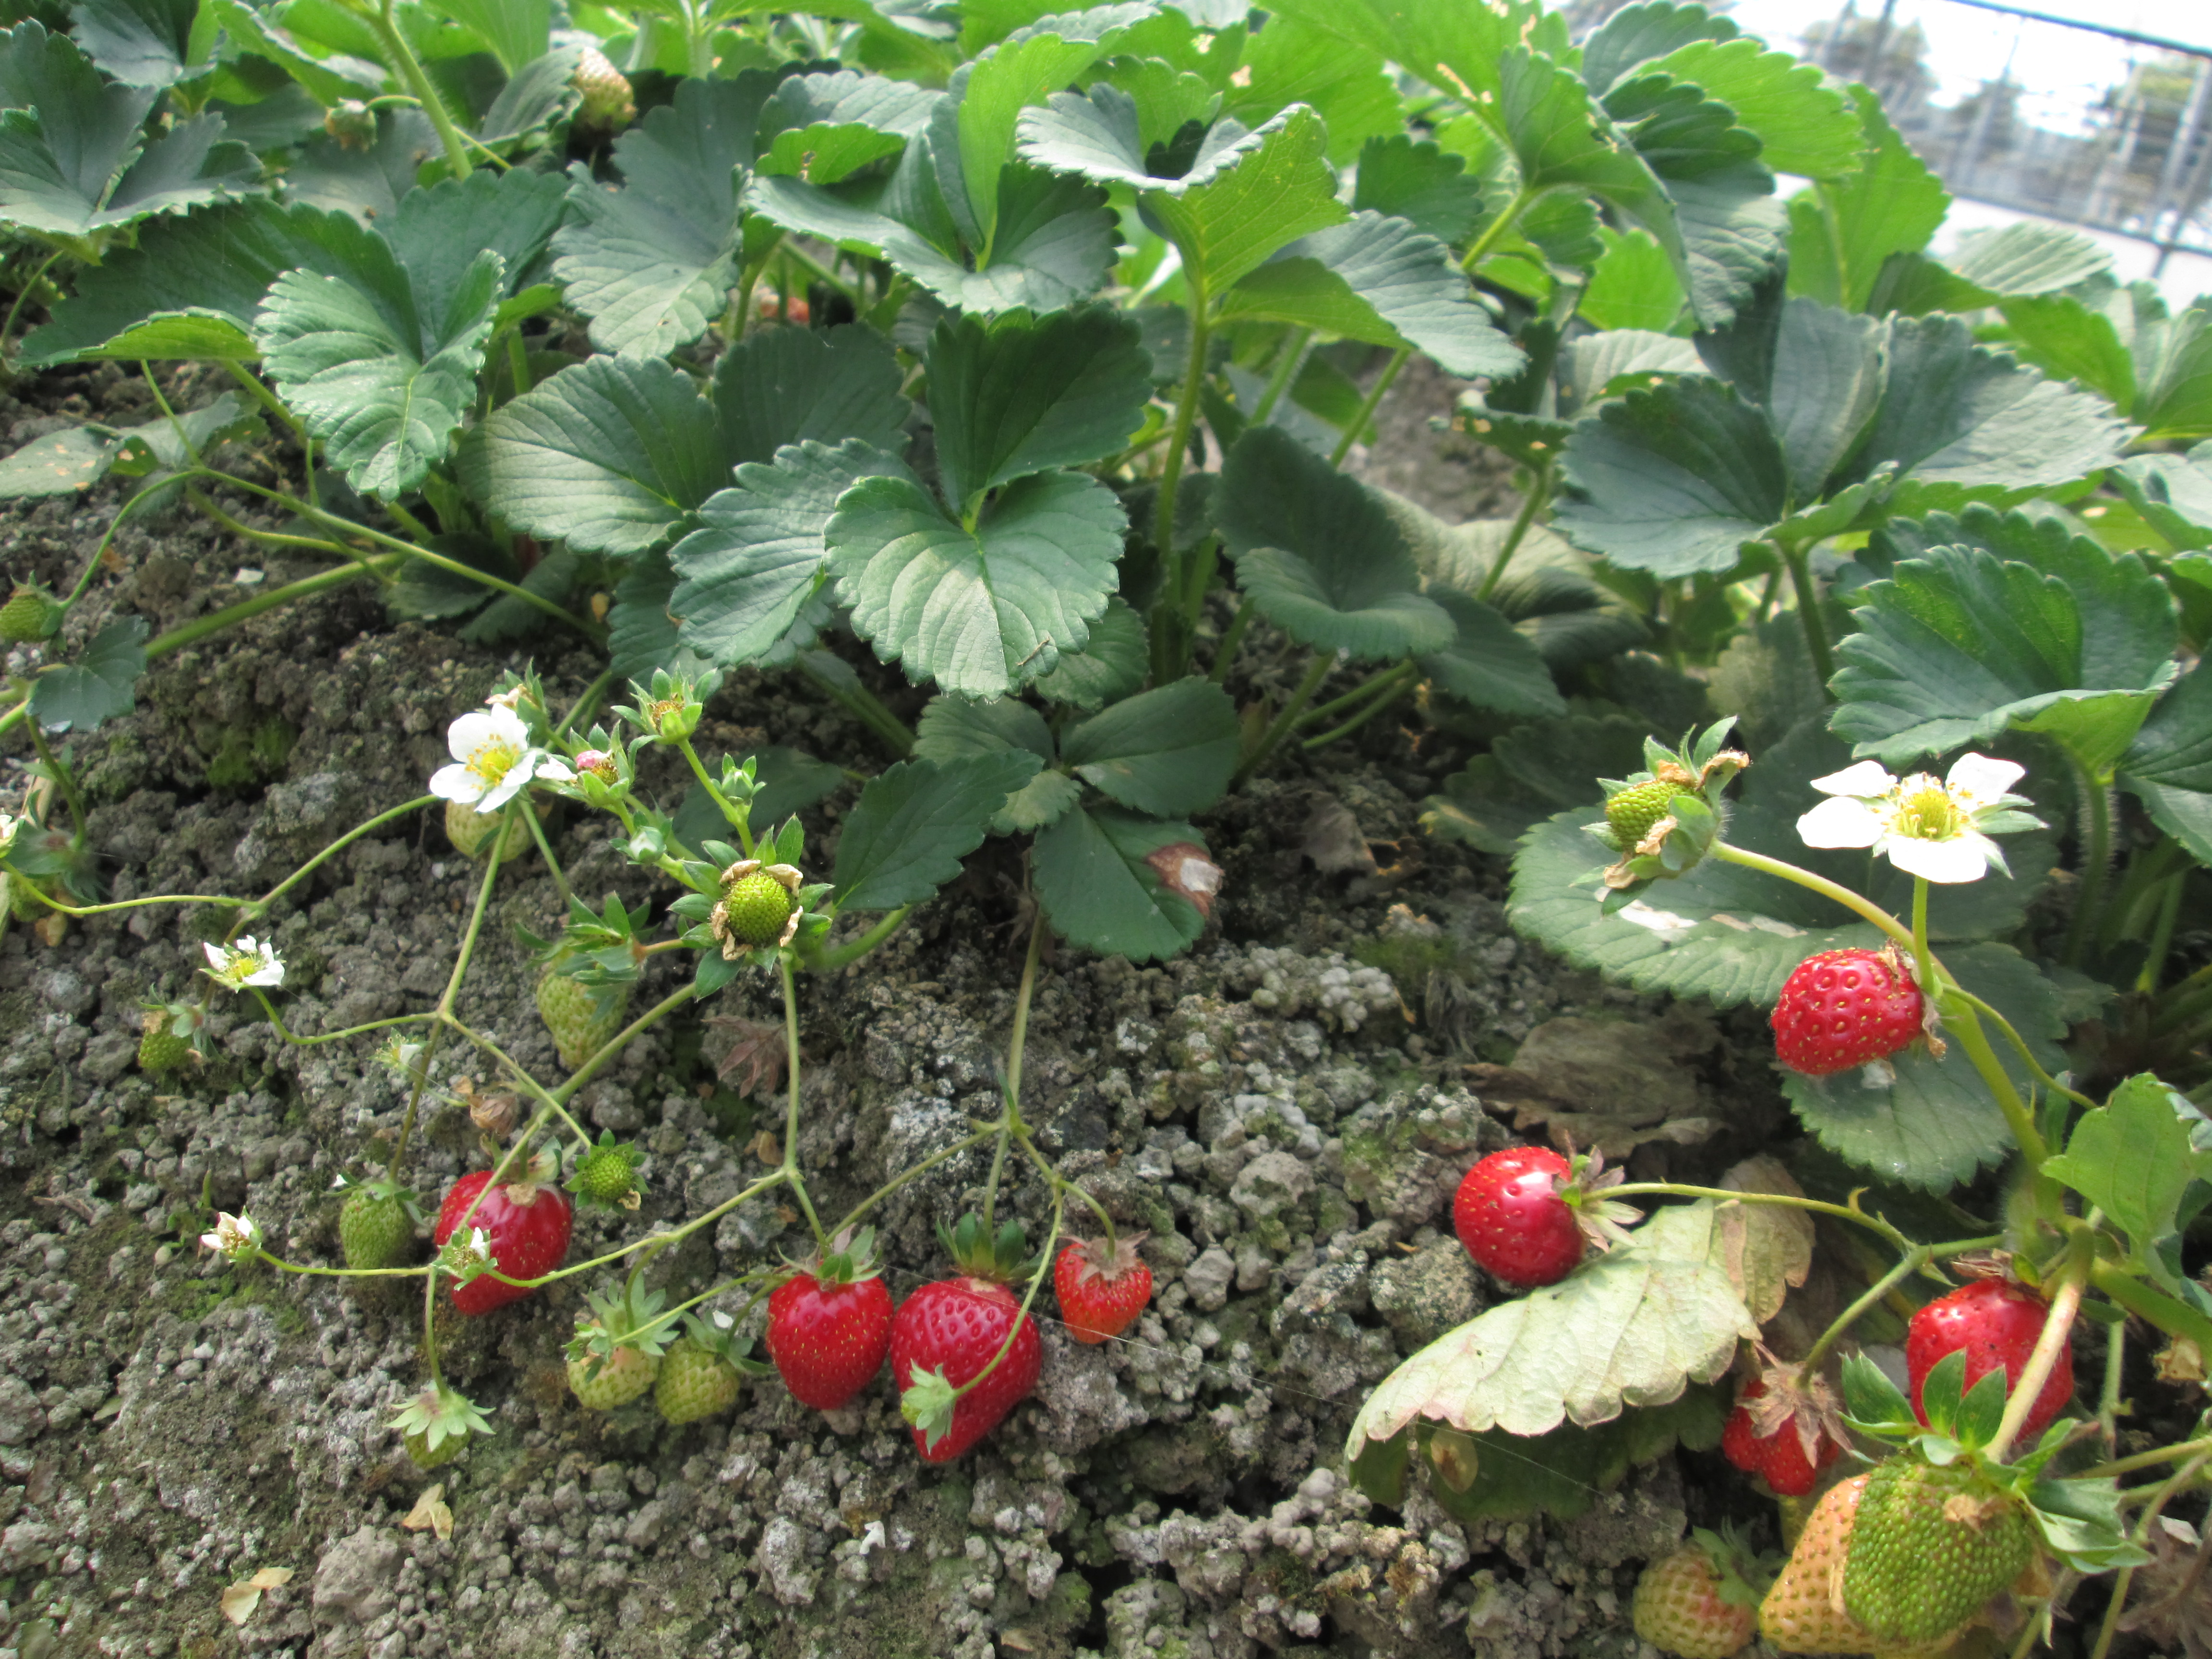StrawberryCircular: (751, 1260, 900, 1425), (1449, 1138, 1599, 1291), (425, 1164, 566, 1321), (1043, 1227, 1162, 1351)
StrawberryCone: (885, 1265, 1043, 1480)
StrawberryIrremovable: (1742, 1462, 1986, 1649), (1841, 1438, 2036, 1628), (1627, 1530, 1777, 1652), (528, 955, 648, 1082), (1601, 767, 1726, 882), (653, 1333, 754, 1436), (561, 1314, 662, 1415), (434, 793, 552, 866), (331, 1182, 413, 1276), (718, 864, 799, 953), (401, 1387, 481, 1473), (571, 1138, 646, 1209), (139, 1006, 207, 1079)
StrawberryOther: (1897, 1272, 2095, 1457), (1766, 948, 1932, 1082), (1721, 1364, 1858, 1500)
StrawberryRemovable: (1897, 1277, 2083, 1457), (890, 1270, 1042, 1473), (1446, 1136, 1599, 1295), (756, 1265, 902, 1422), (423, 1171, 571, 1316), (1770, 948, 1930, 1077), (1724, 1364, 1853, 1500), (1047, 1229, 1160, 1351)
